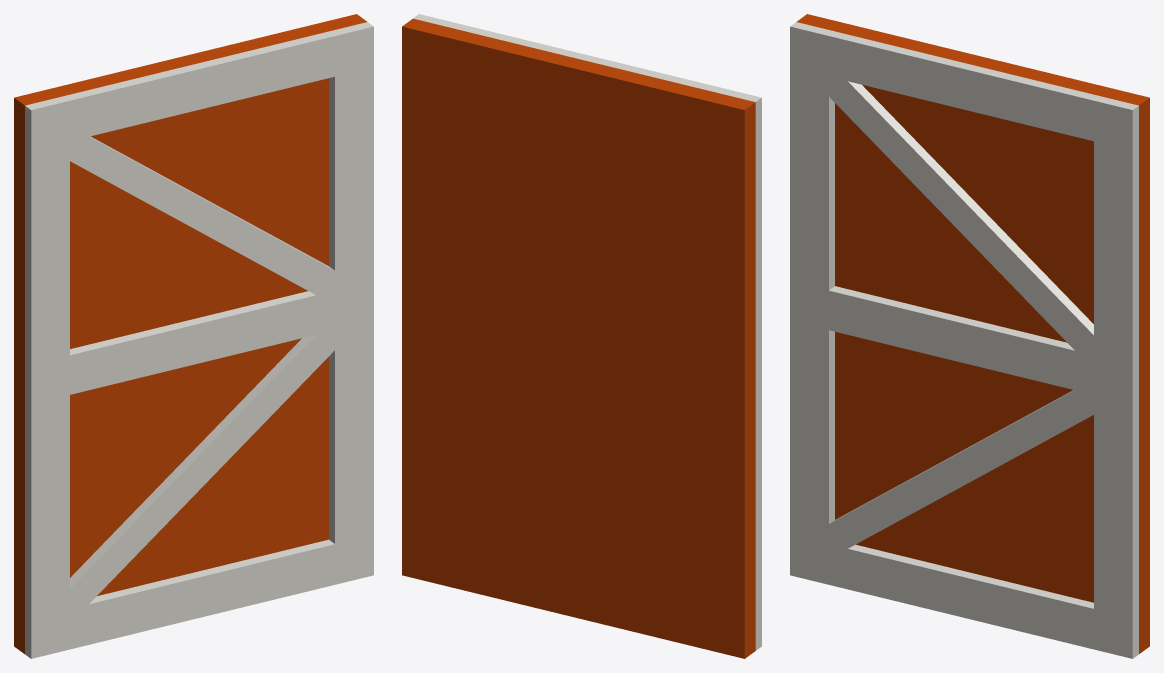
The model's file is farm_gate.fbx.
The picture shows the model from 3 angles, left to right: view 1: azimuth 30°, elevation 25°; view 2: azimuth 150°, elevation 25°; view 3: azimuth 330°, elevation 25°; orthographic projection.
Parts seen in each view (by area): view 1: Cube.011; view 2: Cube.011; view 3: Cube.011.
Part boxes in pixels (x1,y1,x2,y2): Cube.011: (14, 14, 373, 658); Cube.011: (402, 14, 761, 658); Cube.011: (790, 14, 1149, 658).
Size of the model in its own units: 3.62 by 5.54 by 0.314.
